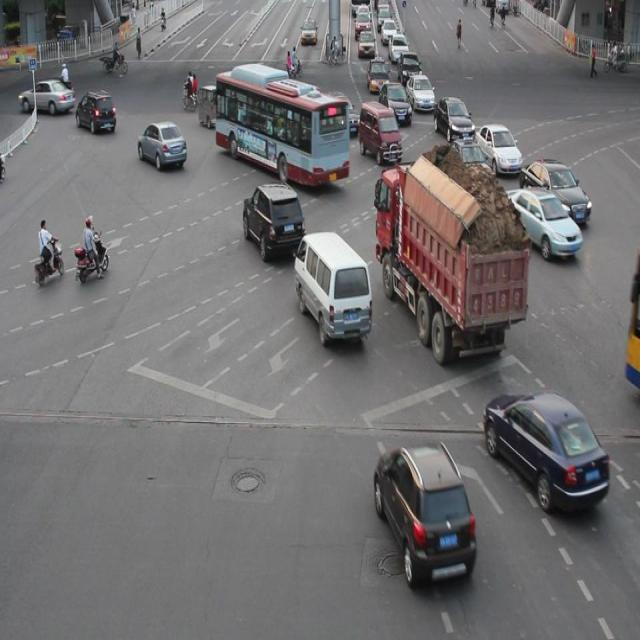bus: (374, 166, 526, 348)
car: (483, 392, 608, 509), (372, 442, 475, 582), (504, 185, 580, 259), (242, 180, 306, 262), (518, 156, 589, 224), (473, 121, 520, 175), (359, 102, 400, 163), (444, 140, 492, 191), (137, 120, 187, 168), (76, 89, 116, 135), (433, 96, 474, 140)
truck: (293, 229, 371, 341), (457, 192, 510, 256)
van: (214, 70, 348, 186)
